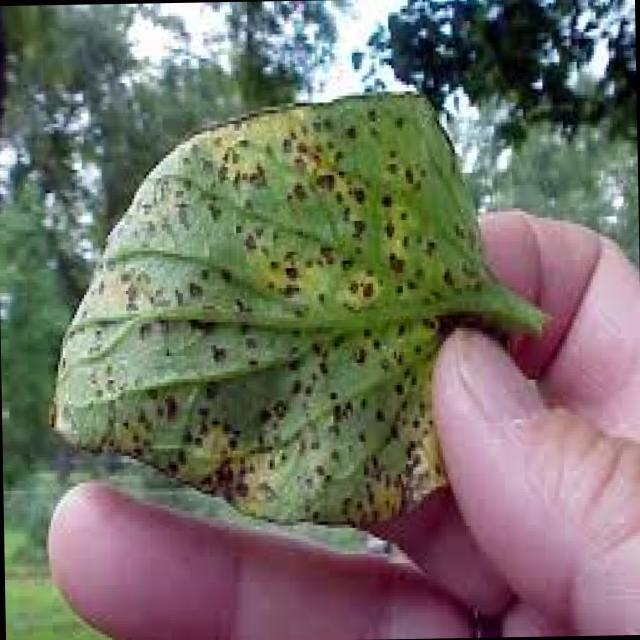Bacterial Spot: (73, 140, 440, 486)
